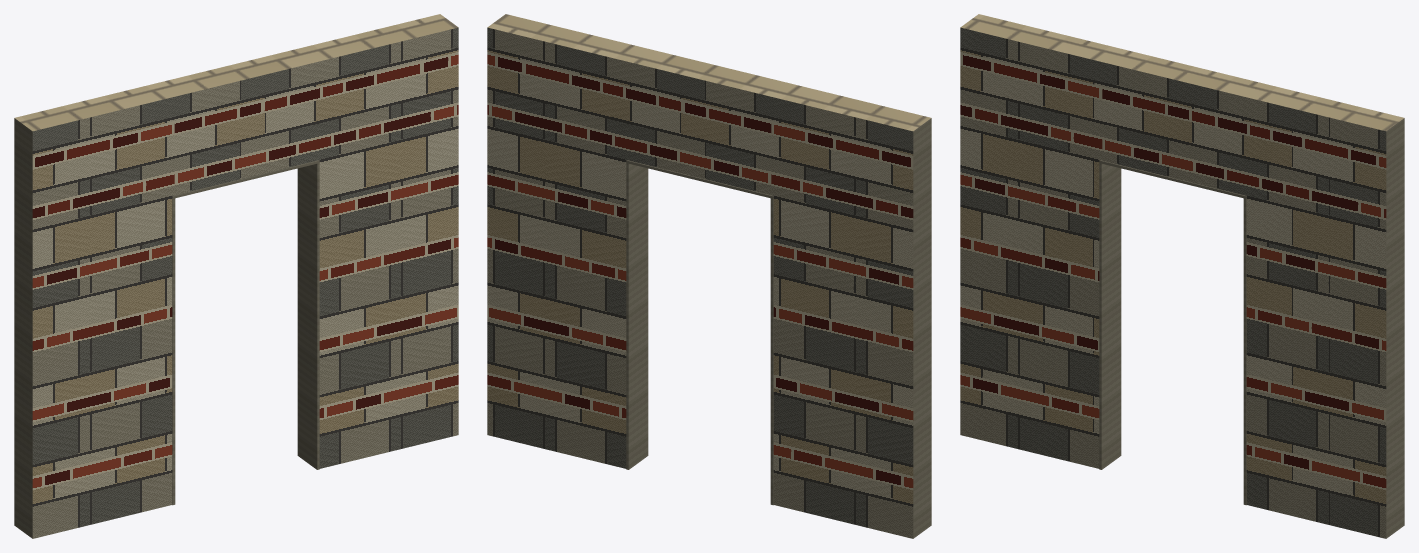
The model's file is wall door hole 3x v4 byzswap tile-opening.glb.
The picture shows the model from 3 angles, left to right: view 1: azimuth 30°, elevation 25°; view 2: azimuth 150°, elevation 25°; view 3: azimuth 330°, elevation 25°; orthographic projection.
Visible parts, largest first — view 1: doorhole_v4_byzswap_3tile_mesh, doorhole_v4_byzswap_cut_reveal_mesh; view 2: doorhole_v4_byzswap_3tile_mesh, doorhole_v4_byzswap_cut_reveal_mesh; view 3: doorhole_v4_byzswap_3tile_mesh, doorhole_v4_byzswap_cut_reveal_mesh.
Part boxes in pixels (x1,y1,x2,y2): doorhole_v4_byzswap_3tile_mesh: [14, 14, 458, 538]; doorhole_v4_byzswap_cut_reveal_mesh: [172, 160, 319, 505]; doorhole_v4_byzswap_3tile_mesh: [487, 14, 931, 538]; doorhole_v4_byzswap_cut_reveal_mesh: [626, 160, 773, 505]; doorhole_v4_byzswap_3tile_mesh: [960, 14, 1404, 538]; doorhole_v4_byzswap_cut_reveal_mesh: [1099, 160, 1246, 505].
Bounding box in the file's own units: 3 × 2.74 × 0.237.
Materials: 3 (3 with a texture image).
